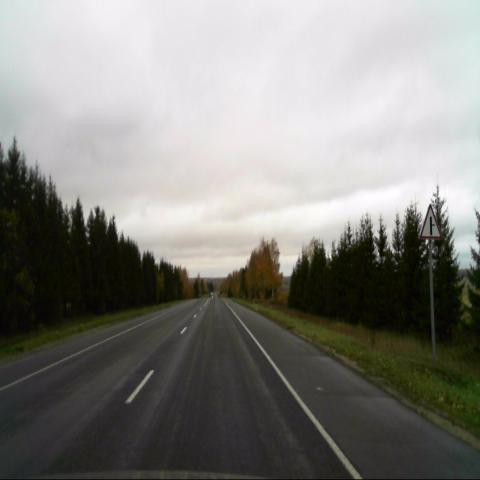2_3_2: (419, 202, 443, 240)
